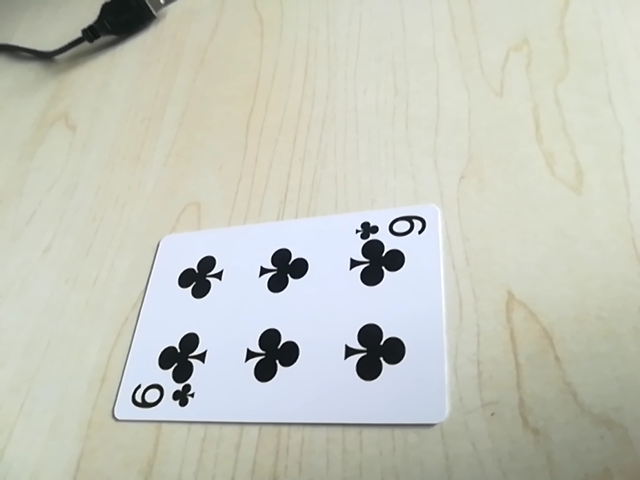mh 6: (124, 380, 195, 415), (355, 211, 429, 243)
